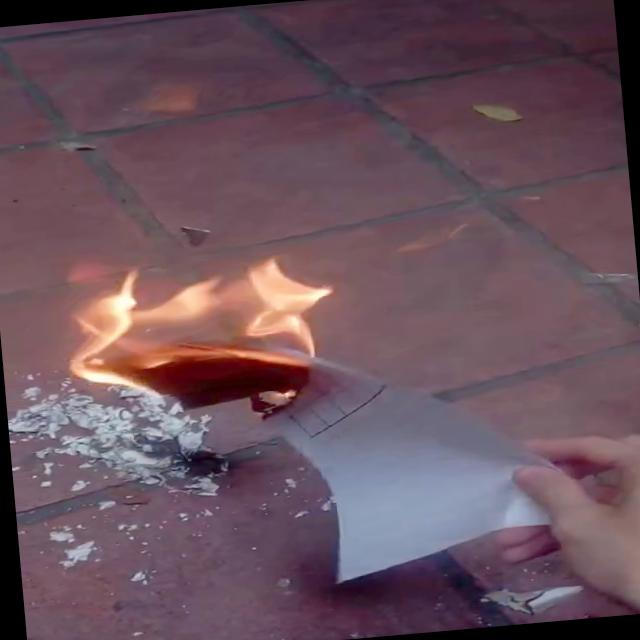Fire_Dangerous: (54, 244, 326, 423)
